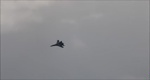maybay_muctieu: (50, 38, 65, 49)
